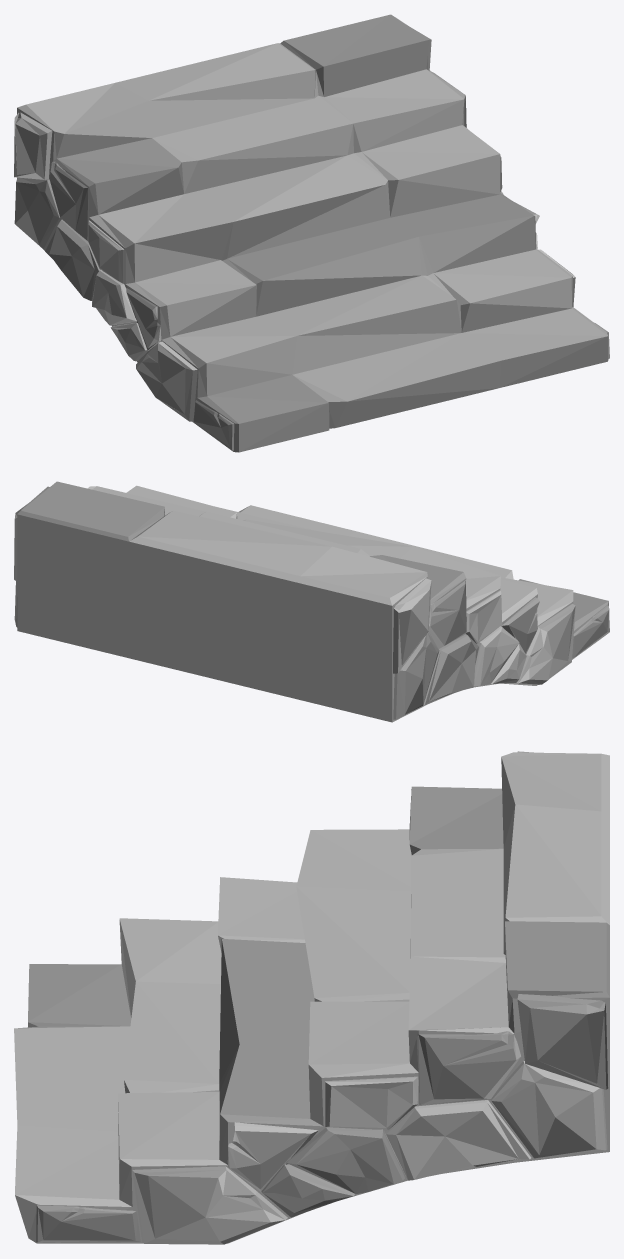
The model's file is _STAIRS_04_1.fbx.
3 renders of one model, top to bottom at view 1: azimuth 30°, elevation 25°; view 2: azimuth 150°, elevation 25°; view 3: azimuth 270°, elevation 25°, orthographic. The views are drawn at different scales.
Visible parts, largest first — view 1: STAIRS_04_1; view 2: STAIRS_04_1; view 3: STAIRS_04_1.
Boxes of the visible parts, left/top/right/bottom form: STAIRS_04_1: left=14, top=14, right=609, bottom=452; STAIRS_04_1: left=14, top=481, right=609, bottom=722; STAIRS_04_1: left=14, top=751, right=609, bottom=1244.
Bounding box in the file's own units: 106 × 49.85 × 104.
